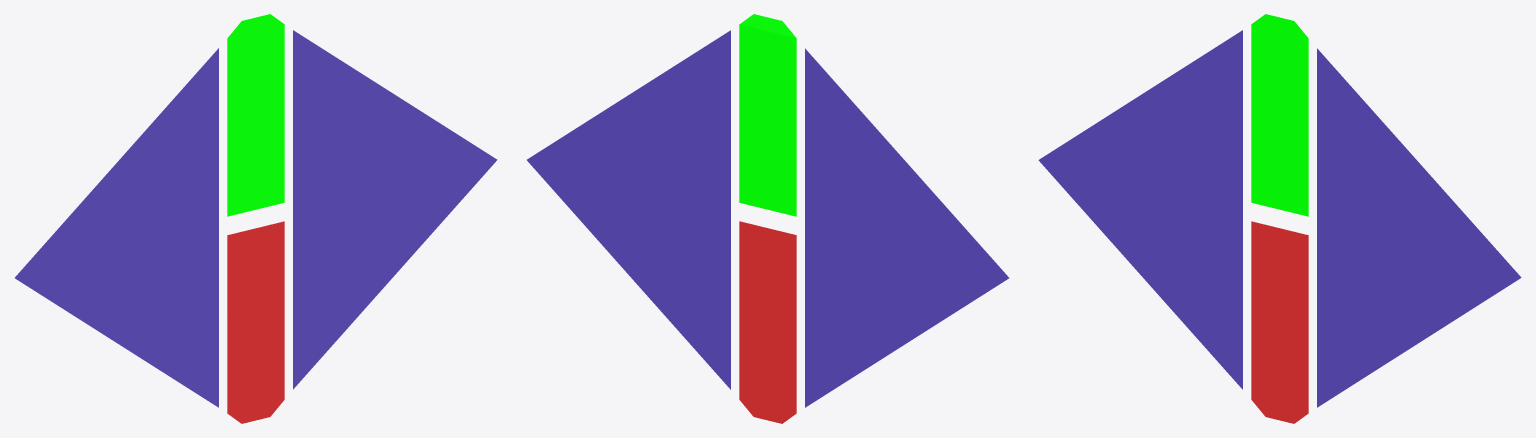
File: InputOverlay.fbx
The picture shows the model from 3 angles, left to right: view 1: azimuth 30°, elevation 25°; view 2: azimuth 150°, elevation 25°; view 3: azimuth 330°, elevation 25°; orthographic projection.
Parts seen in each view (by area): view 1: InputLeftBg, InputRightBg, InputBrake, InputGas; view 2: InputRightBg, InputLeftBg, InputGas, InputBrake; view 3: InputLeftBg, InputRightBg, InputBrake, InputGas.
Boxes of the visible parts, box(x1,y1,x2,y2) form: InputLeftBg: box(15, 48, 218, 407); InputRightBg: box(293, 30, 497, 389); InputBrake: box(227, 221, 284, 423); InputGas: box(227, 14, 284, 216); InputRightBg: box(527, 30, 730, 389); InputLeftBg: box(805, 48, 1009, 407); InputGas: box(739, 14, 796, 216); InputBrake: box(739, 221, 796, 423); InputLeftBg: box(1038, 30, 1242, 389); InputRightBg: box(1317, 48, 1521, 407); InputBrake: box(1251, 221, 1308, 423); InputGas: box(1251, 14, 1308, 216).
Size of the model in its own units: 1.82 by 1.45 by 0.00179.
